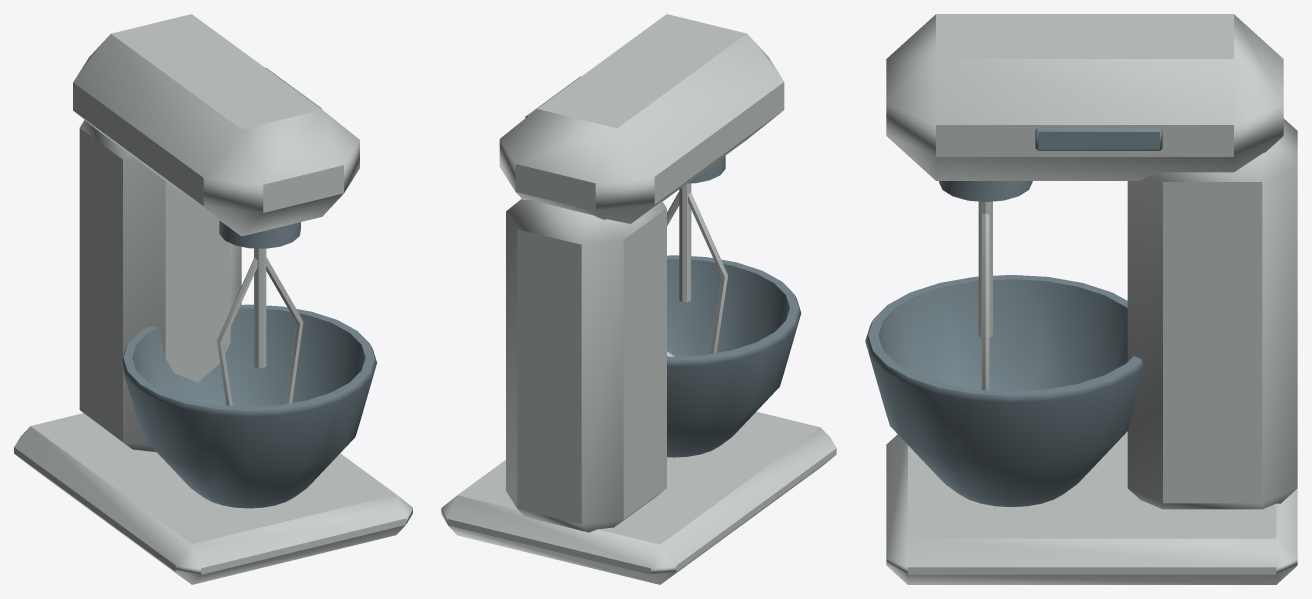
The model's file is stand-mixer.glb.
3 renders of one model, left to right at view 1: azimuth 30°, elevation 25°; view 2: azimuth 150°, elevation 25°; view 3: azimuth 270°, elevation 25°, orthographic. The views are drawn at different scales.
Parts seen in each view (by area): view 1: mixer_head, mixing_bowl, motor_column, foot, beater_shaft, planetary_hub, whisk_wire, whisk_wire.001; view 2: motor_column, mixer_head, foot, mixing_bowl, beater_shaft, whisk_wire; view 3: mixer_head, motor_column, mixing_bowl, foot, speed_slider, planetary_hub, whisk_wire.001, beater_shaft.
Part boxes in pixels (x1,y1,x2,y2): mixer_head: [73, 14, 359, 236]; mixing_bowl: [121, 304, 376, 508]; motor_column: [79, 120, 241, 452]; foot: [14, 413, 412, 584]; beater_shaft: [254, 248, 266, 368]; planetary_hub: [219, 220, 300, 248]; whisk_wire: [217, 258, 257, 405]; whisk_wire.001: [266, 257, 303, 403]; motor_column: [506, 199, 666, 532]; mixer_head: [499, 14, 784, 223]; foot: [441, 411, 836, 584]; mixing_bowl: [667, 255, 801, 457]; beater_shaft: [679, 183, 691, 302]; whisk_wire: [688, 192, 727, 353]; mixer_head: [886, 14, 1283, 180]; motor_column: [1127, 118, 1297, 509]; mixing_bowl: [865, 275, 1143, 507]; foot: [886, 431, 1297, 584]; speed_slider: [1035, 127, 1162, 150]; planetary_hub: [939, 181, 1032, 201]; whisk_wire.001: [982, 213, 989, 390]; beater_shaft: [978, 201, 992, 337].
Size of the model in its own units: 0.22 by 0.3825 by 0.305.
